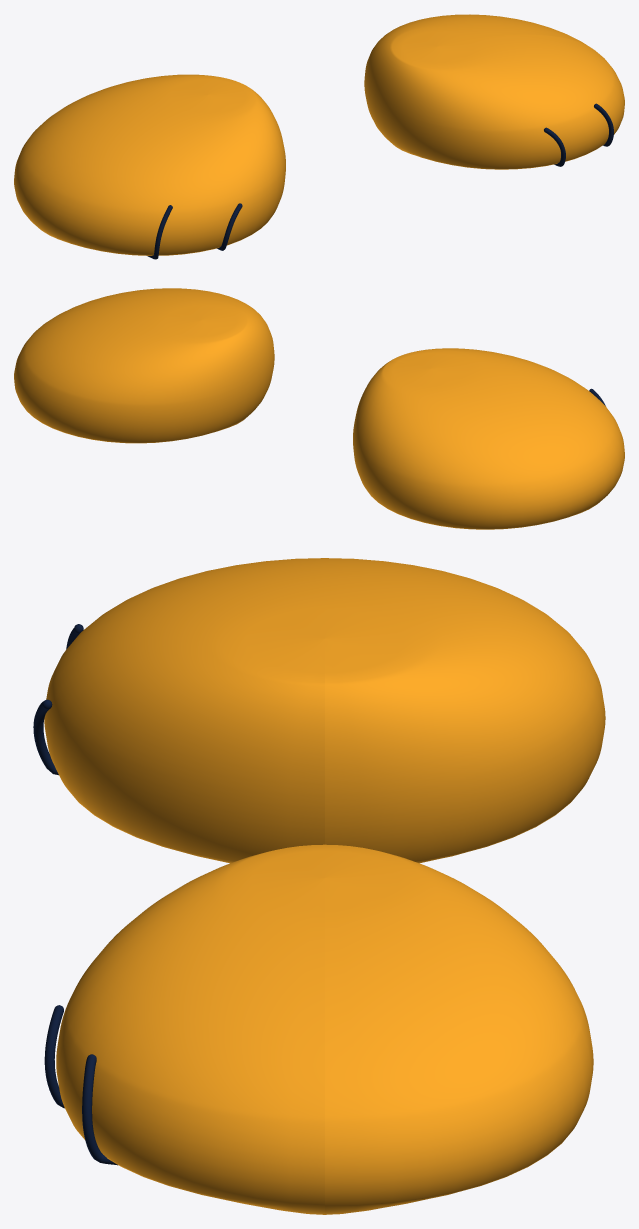
File: bird.glb
3 renders of one model, top to bottom at view 1: azimuth 30°, elevation 25°; view 2: azimuth 150°, elevation 25°; view 3: azimuth 270°, elevation 25°, orthographic. The views are drawn at different scales.
Parts seen in each view (by area): view 1: bird_6_solid, bird_7_solid; view 2: bird_6_solid, bird_7_solid; view 3: bird_7_solid, bird_6_solid, bird_10_line, bird_11_line.
Part boxes in pixels (x1,y1,x2,y2): bird_6_solid: (14, 74, 285, 255); bird_7_solid: (364, 14, 624, 169); bird_6_solid: (353, 348, 624, 529); bird_7_solid: (14, 288, 274, 443); bird_7_solid: (56, 844, 593, 1214); bird_6_solid: (44, 558, 605, 863); bird_10_line: (82, 1054, 117, 1165); bird_11_line: (44, 1005, 64, 1108).
Bounding box in the file's own units: 0.63 × 0.1078 × 0.2724.
